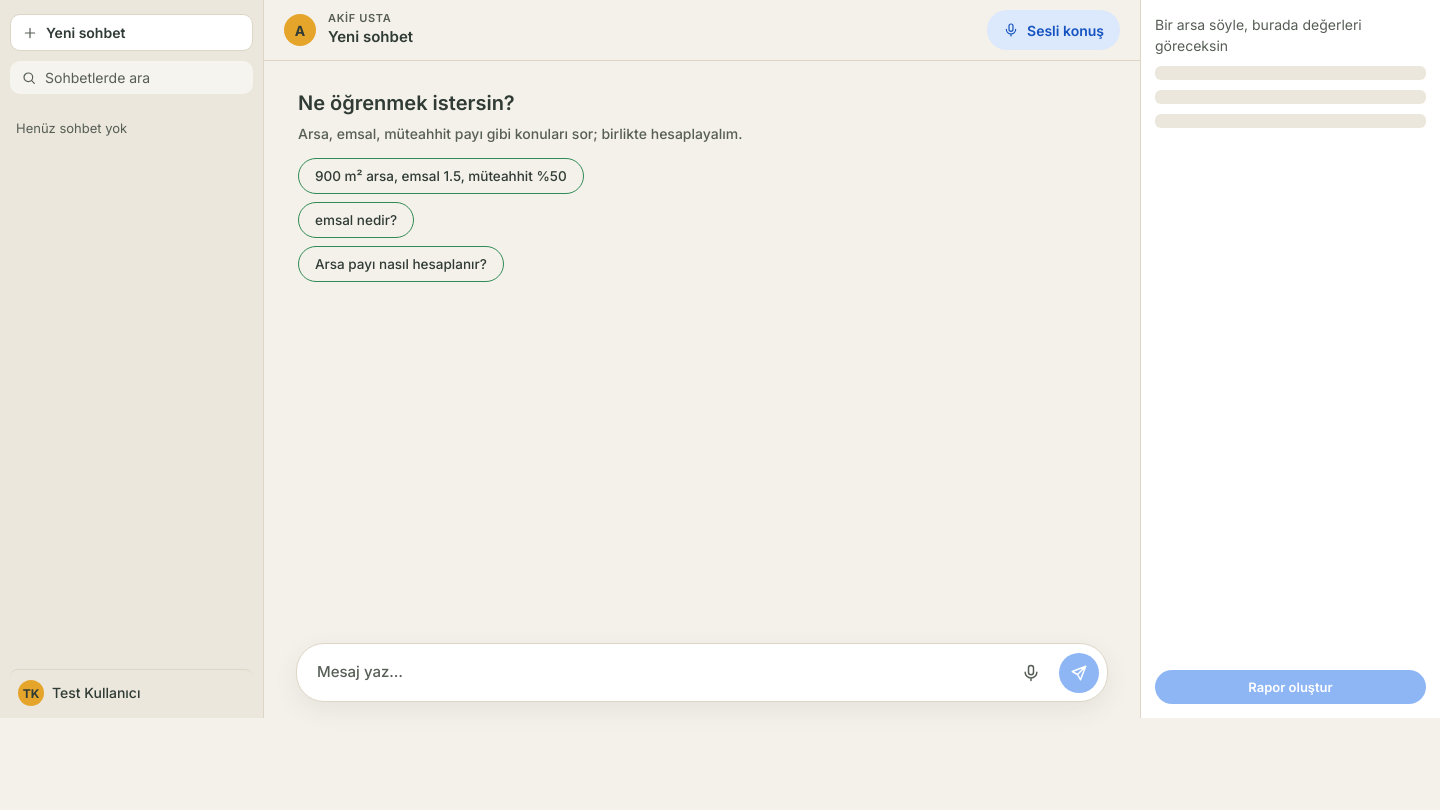
Test: başarılı turdan sonra sohbet listesi yenilenir
Type "merhaba" into the text box. click: (660, 672)
box: [317, 652, 1003, 693]
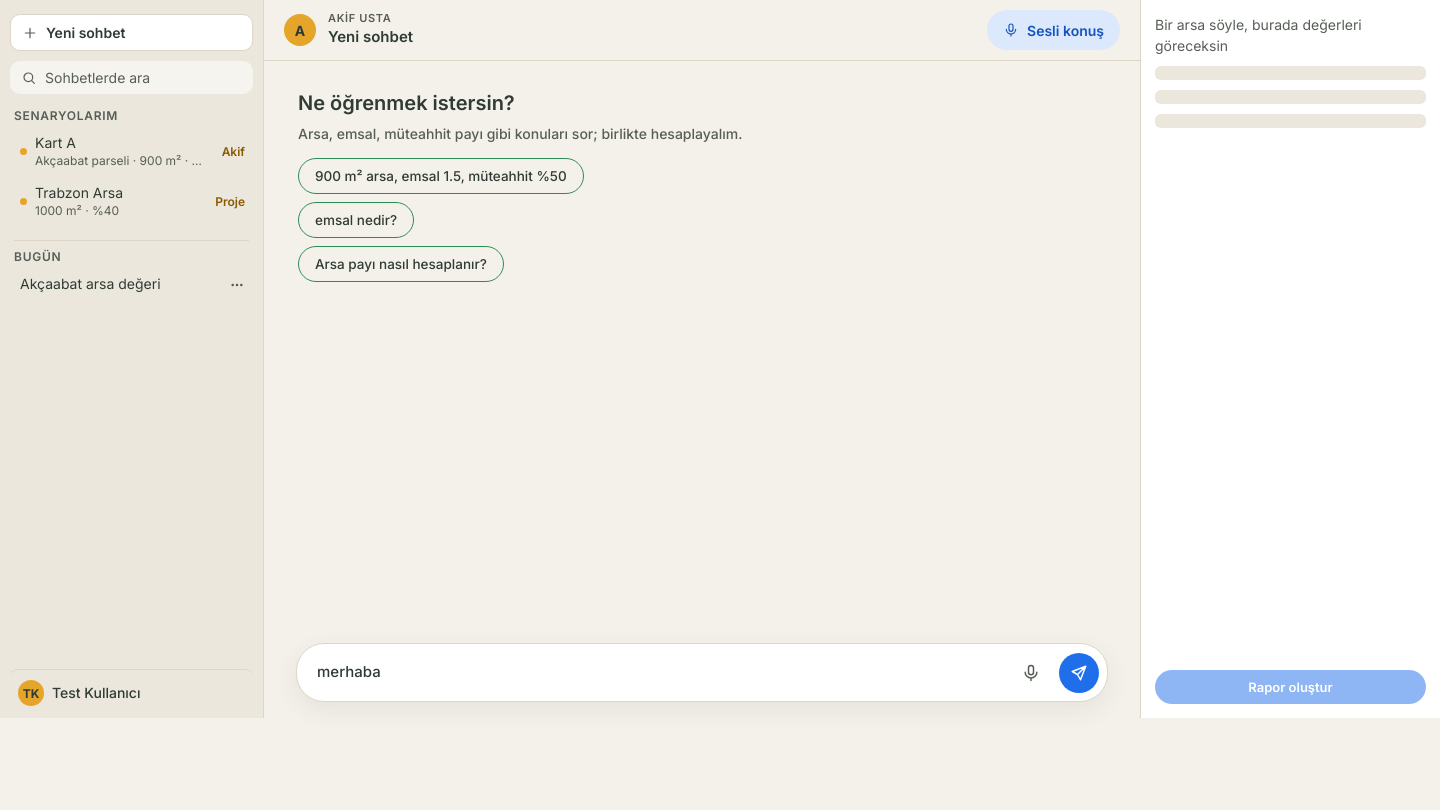
Submit the form, box [296, 643, 1108, 702]
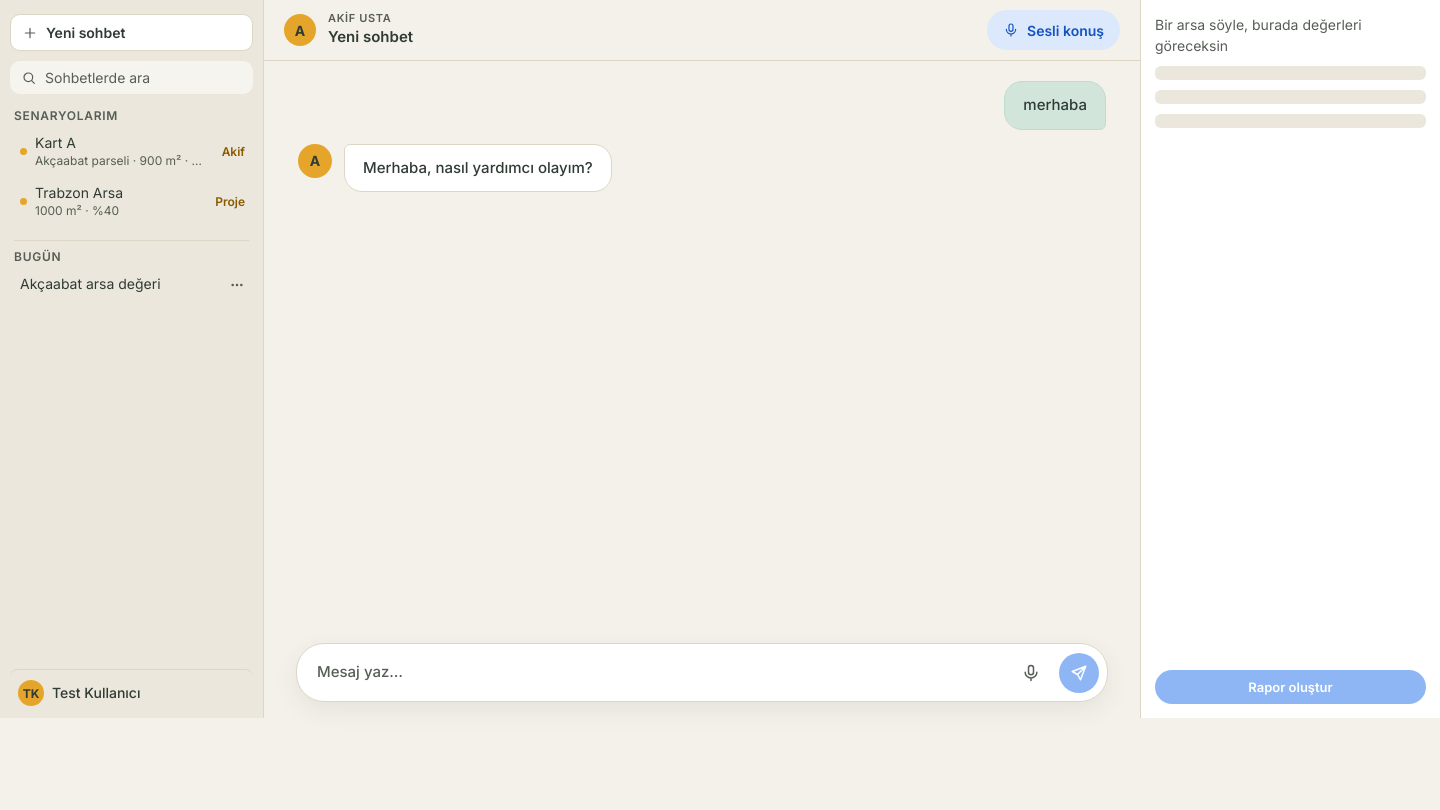
Now the text "Merhaba, nasıl yardımcı olayım?" is shown, box [344, 144, 612, 192]
